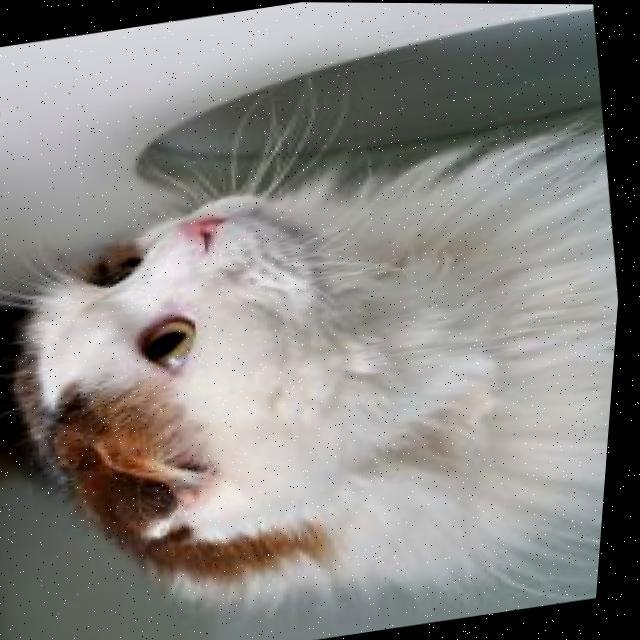Scottish Fold: (0, 112, 633, 640)
